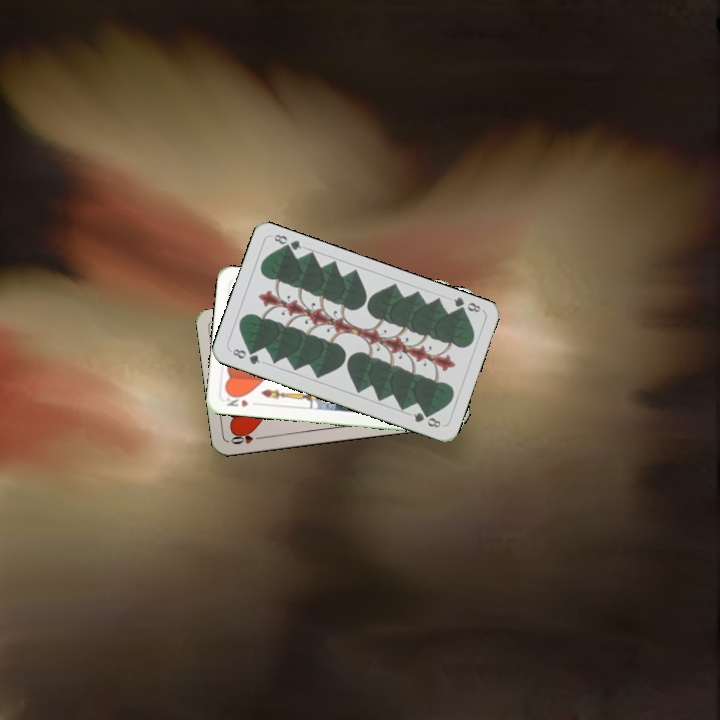G8: (449, 293, 485, 317), (228, 345, 262, 367)
HK: (221, 390, 251, 410)
HO: (227, 428, 266, 447)
